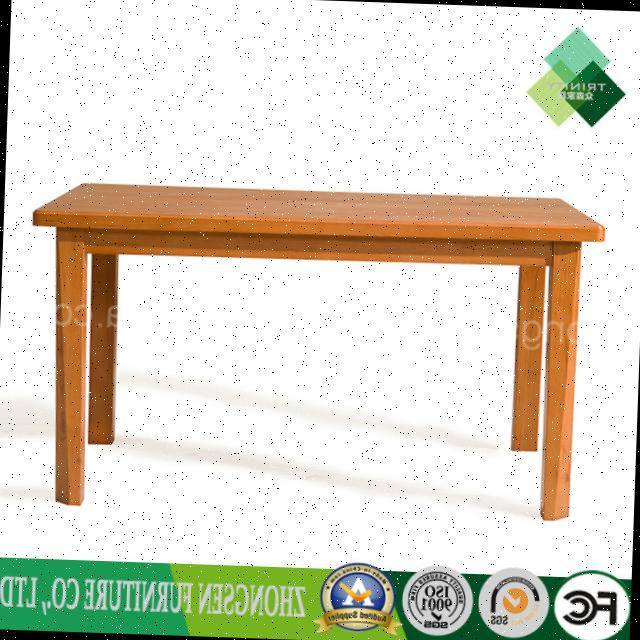Table: (1, 153, 628, 539)
